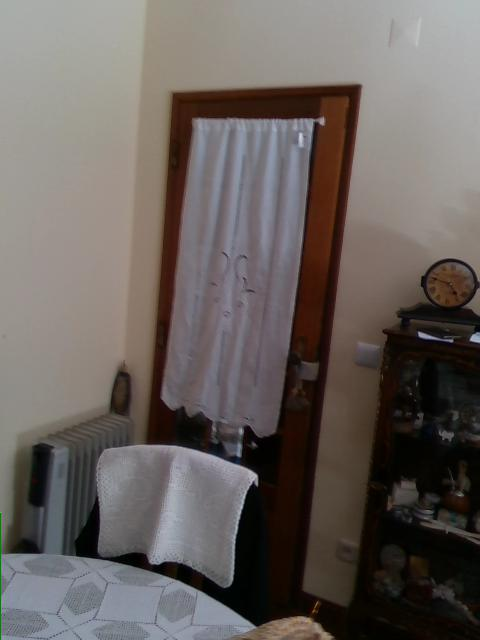door: (146, 83, 363, 594)
